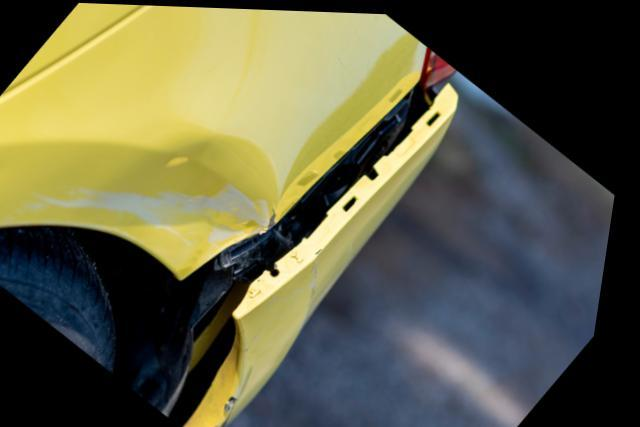dent: (26, 133, 281, 278)
dislocated part: (186, 69, 460, 325)
